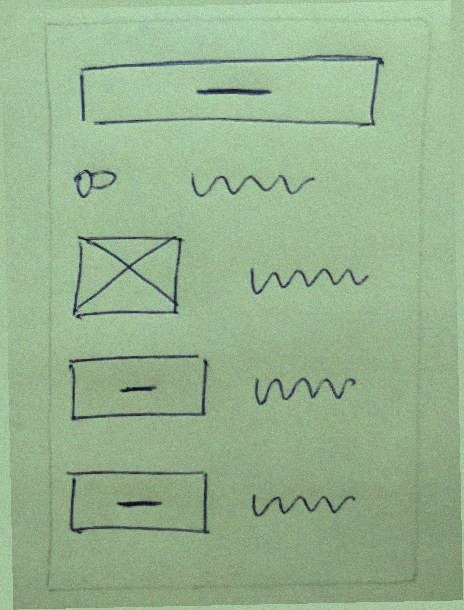button: (72, 50, 386, 140), (62, 346, 214, 429), (64, 458, 217, 540)
image: (61, 227, 190, 327)
switch: (57, 161, 140, 210)
text: (183, 159, 319, 206), (238, 253, 374, 300), (237, 363, 373, 410), (235, 475, 370, 522)
